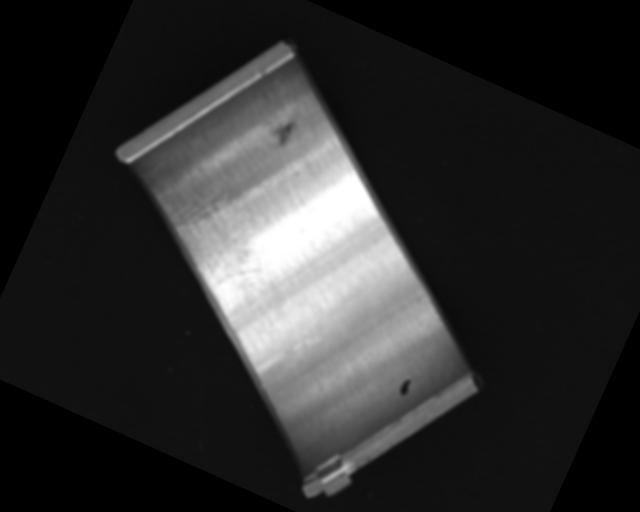blot: (395, 375, 414, 398)
bruise: (267, 116, 297, 152)
nick: (252, 302, 328, 391)
scratch: (127, 167, 302, 322)
